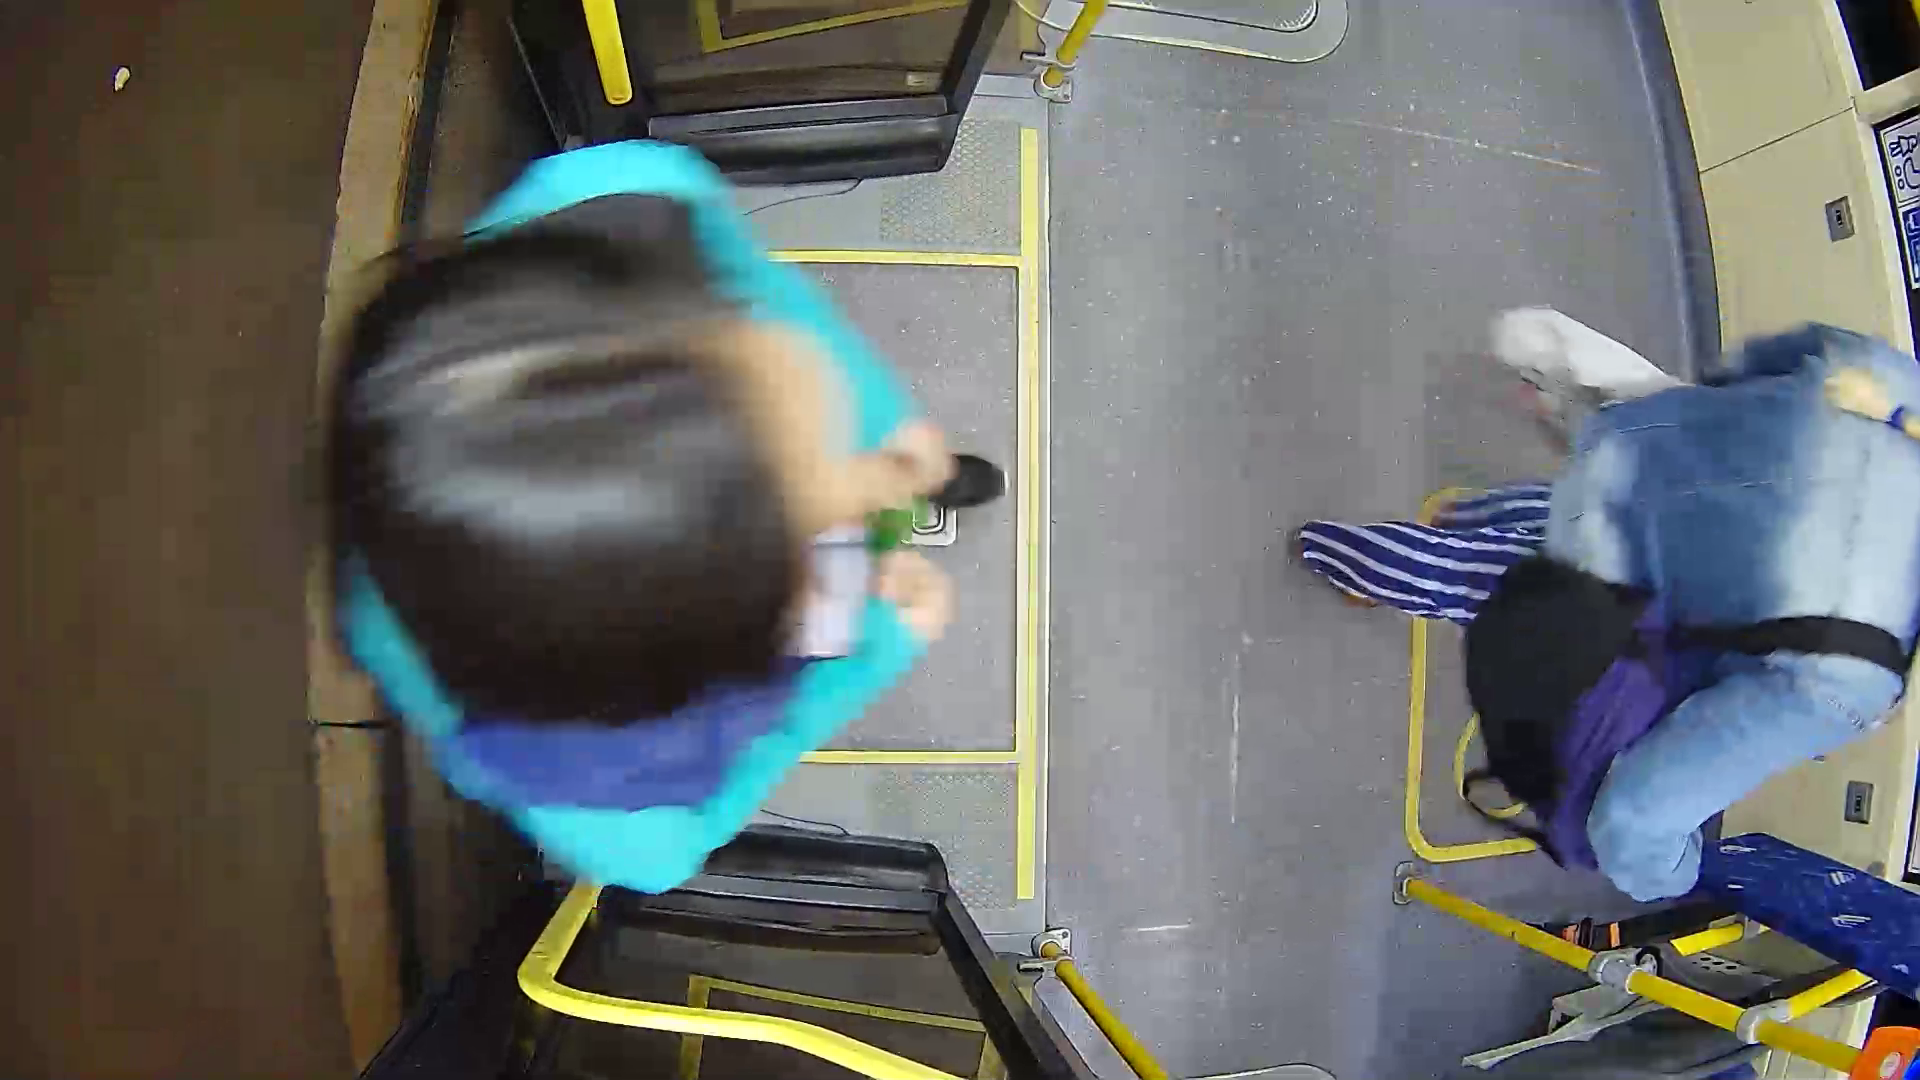person: (338, 141, 988, 838)
